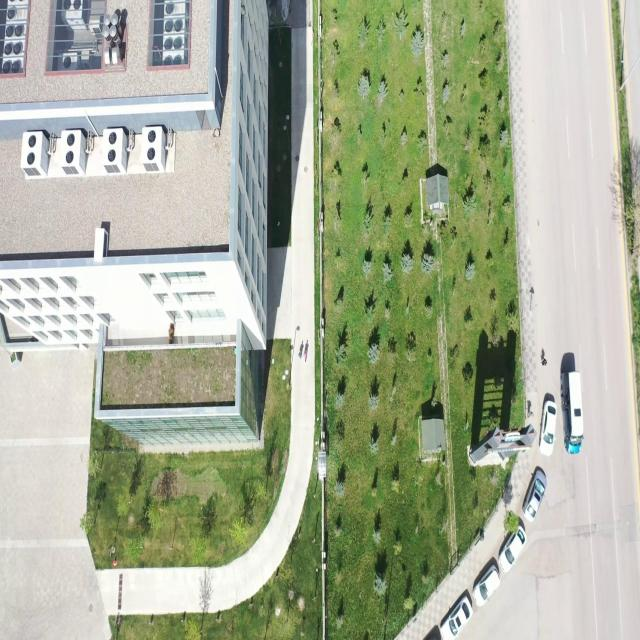p3rson: (528, 410, 534, 420), (304, 348, 307, 364), (542, 356, 546, 367), (298, 351, 303, 359)
